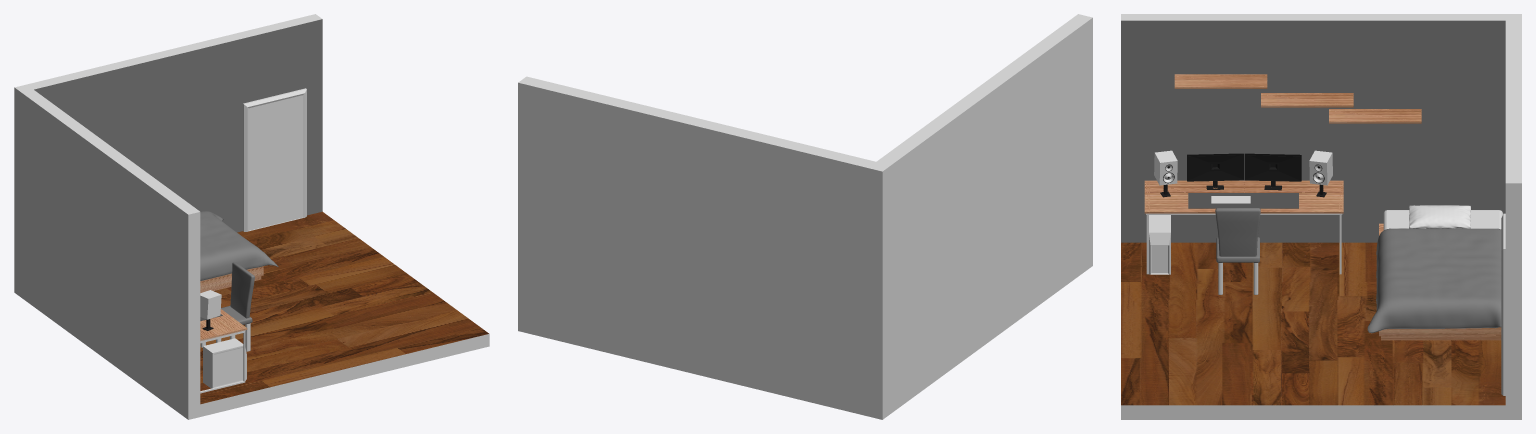
The model's file is isometric-room.fbx.
3 views of the same model, side by side, from view 1: azimuth 30°, elevation 25°; view 2: azimuth 150°, elevation 25°; view 3: azimuth 270°, elevation 25° (orthographic). The views are drawn at different scales.
Visible parts, largest first — view 1: Cube, Cube.005, Plane.001, Cube.006, Plane, Cube.004, Cube.011, Cube.001; view 2: Cube; view 3: Cube, Plane.001, Cube.004, Plane, Cube.007, Cube.009, Cube.001, Cube.003, Cube.008, Cube.015, Cube.013, Cube.014 (+5 smaller).
Part boxes in pixels (x1,y1,x2,y2): Cube: (14, 14, 489, 419); Cube.005: (243, 88, 306, 231); Plane.001: (200, 211, 278, 280); Cube.006: (203, 338, 246, 388); Plane: (200, 262, 254, 351); Cube.004: (200, 309, 247, 393); Cube.011: (200, 290, 221, 330); Cube.001: (200, 266, 263, 292); Cube: (518, 14, 1092, 419); Cube: (1121, 14, 1521, 419); Plane.001: (1367, 228, 1501, 333); Cube.004: (1144, 180, 1343, 274); Plane: (1215, 208, 1260, 294); Cube.007: (1244, 153, 1301, 190); Cube.009: (1187, 153, 1243, 189); Cube.001: (1379, 223, 1501, 340); Cube.003: (1409, 205, 1470, 228); Cube.008: (1188, 193, 1298, 208); Cube.015: (1174, 74, 1267, 88); Cube.013: (1261, 93, 1353, 107); Cube.014: (1329, 109, 1421, 123).
Bounding box in the file's own units: 866 × 564 × 866.
14 materials, 2 textured.
